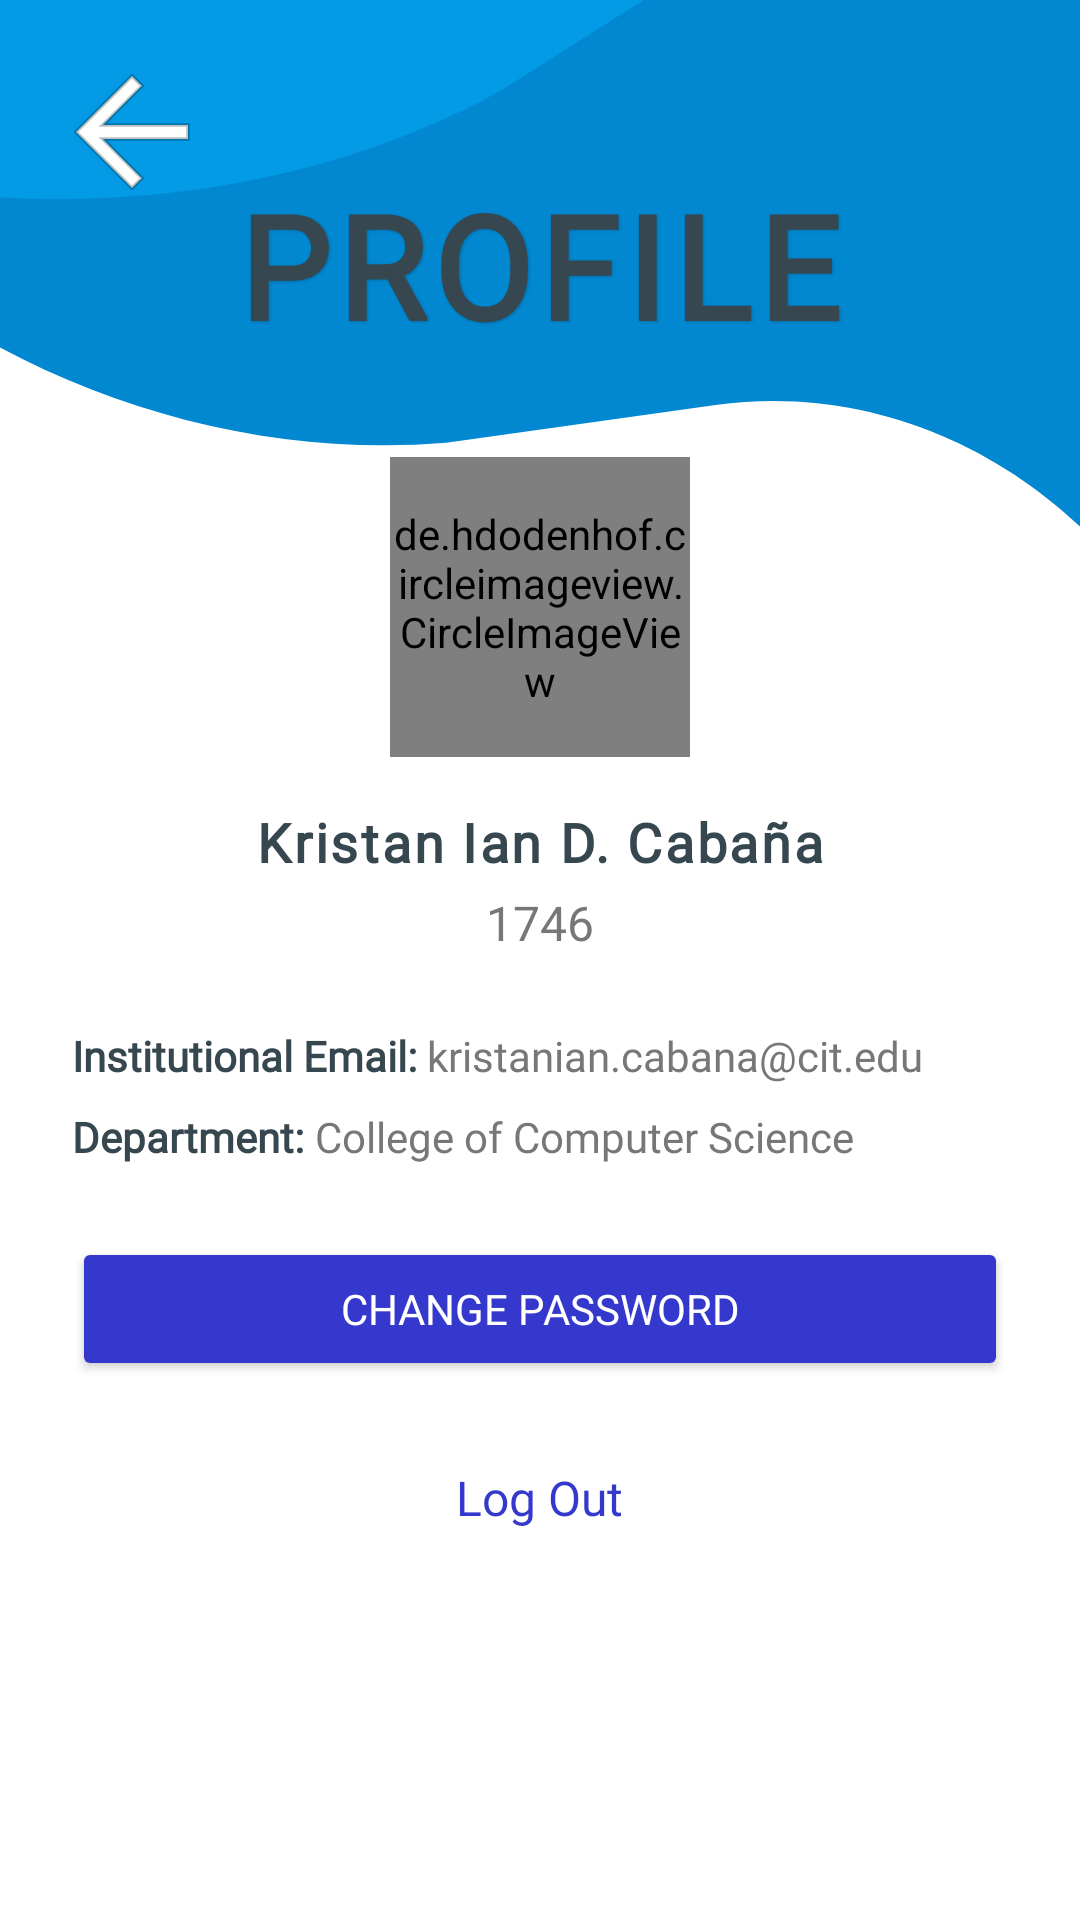

Icons on this 1080w x 1920h Android screen, each with the point to tap as (x=x, y=y):
Back button: (x=132, y=132)
